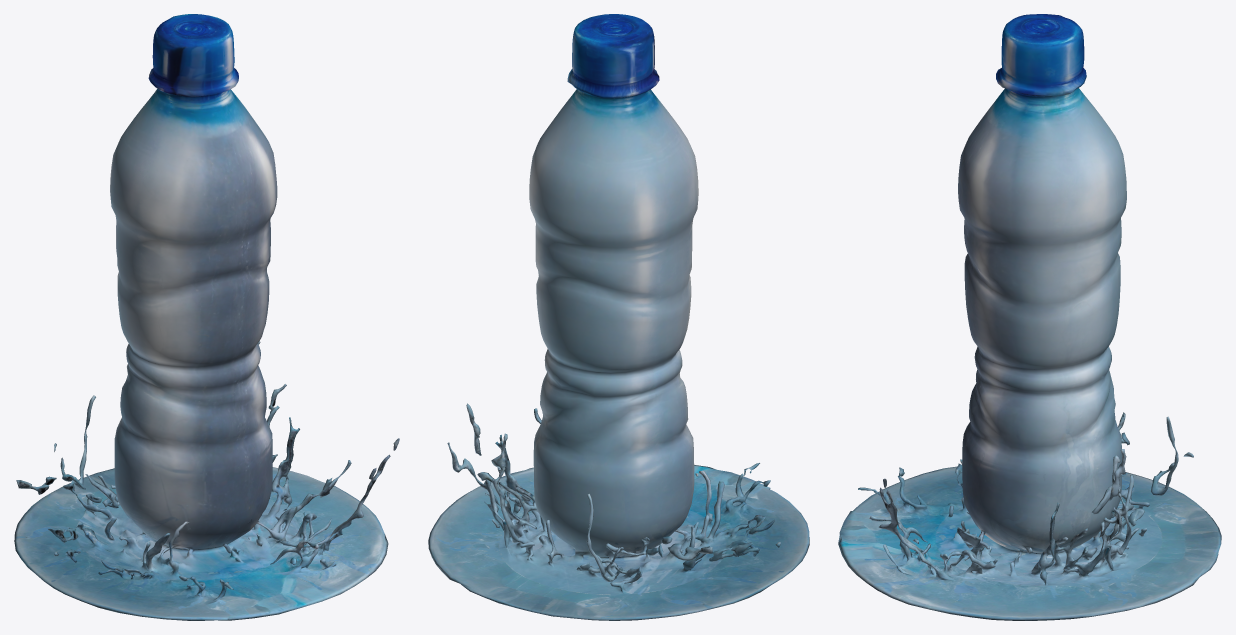
Rendered from cleaning_and_rinsing__1226144827_texture.fbx.
3 renders of one model, left to right at view 1: azimuth 30°, elevation 25°; view 2: azimuth 150°, elevation 25°; view 3: azimuth 270°, elevation 25°, orthographic.
Visible parts, largest first — view 1: Mesh1_Mesh1.004; view 2: Mesh1_Mesh1.004; view 3: Mesh1_Mesh1.004.
Boxes of the visible parts, x1=… form: Mesh1_Mesh1.004: x1=14, y1=14, x2=399, y2=620; Mesh1_Mesh1.004: x1=428, y1=14, x2=809, y2=620; Mesh1_Mesh1.004: x1=838, y1=14, x2=1221, y2=620.
Size of the model in its own units: 131 by 200 by 135.
Materials: 1 (1 with a texture image).
